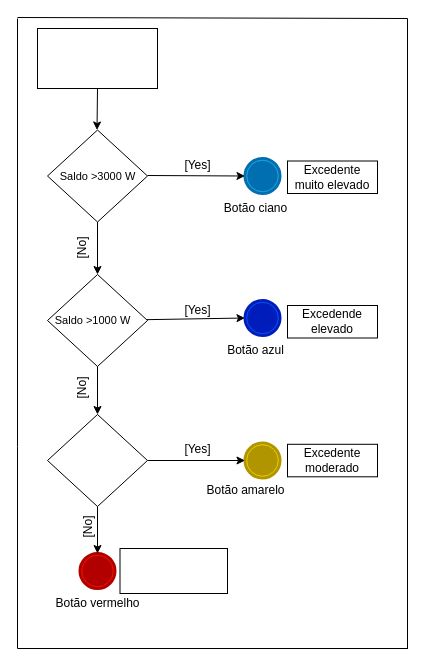
Image size: 426x668. Some labels were removed from this diagram. Here are the shapes that lost their labels. From the top down, the centre of each, then its label:
(x=97, y=58): Leitura do saldo energético
(x=97, y=460): Saldo >500 W
(x=173, y=571): Excedente baixo ou consumo da rede elétrica
